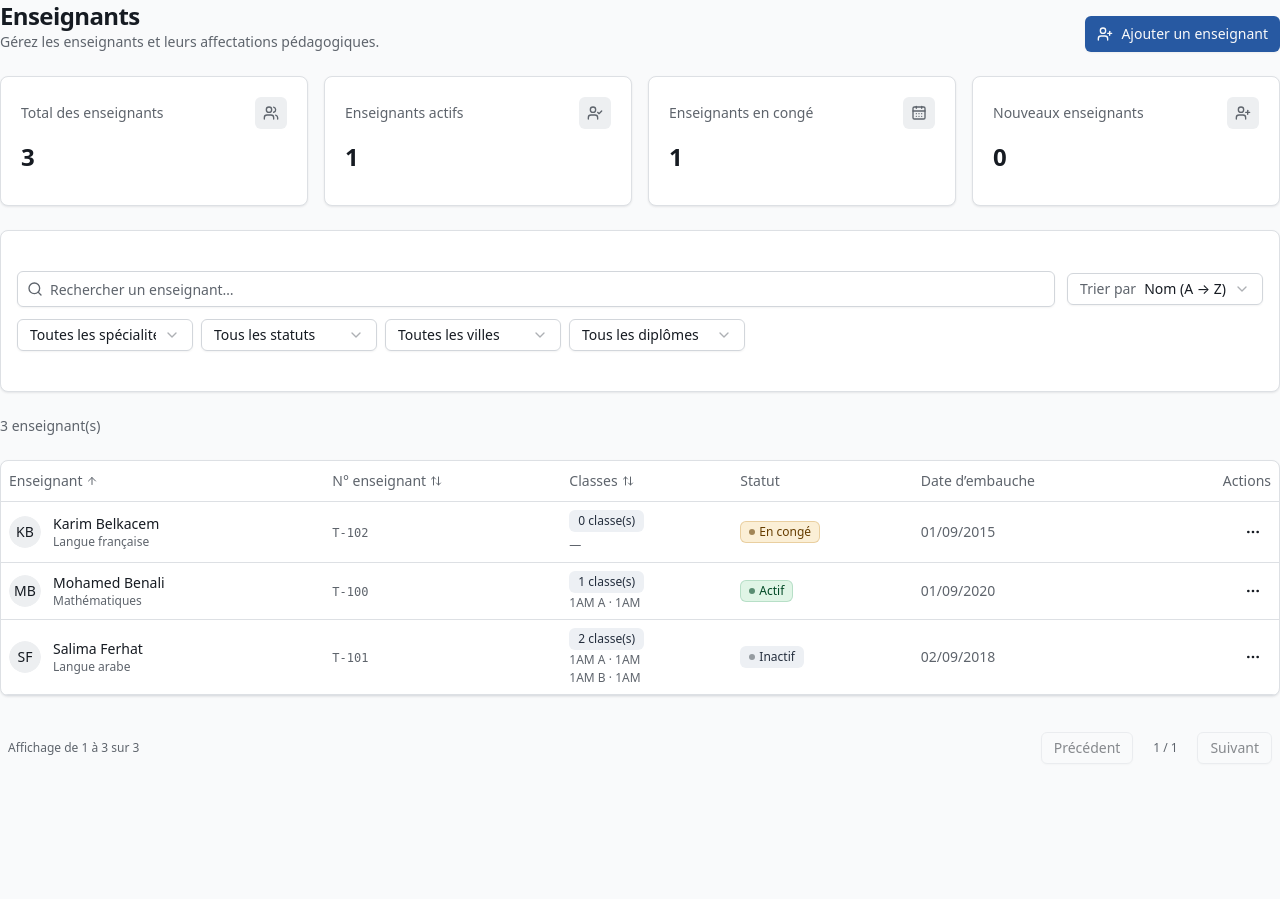
TeachersPage › edits a teacher through the form sheet
Expected: the link "Mohamed Benali" is shown, [53, 572, 165, 592]
Click the button named "Actions" in the row of "Mohamed Benali": point(1253, 590) [1235, 572, 1271, 608]
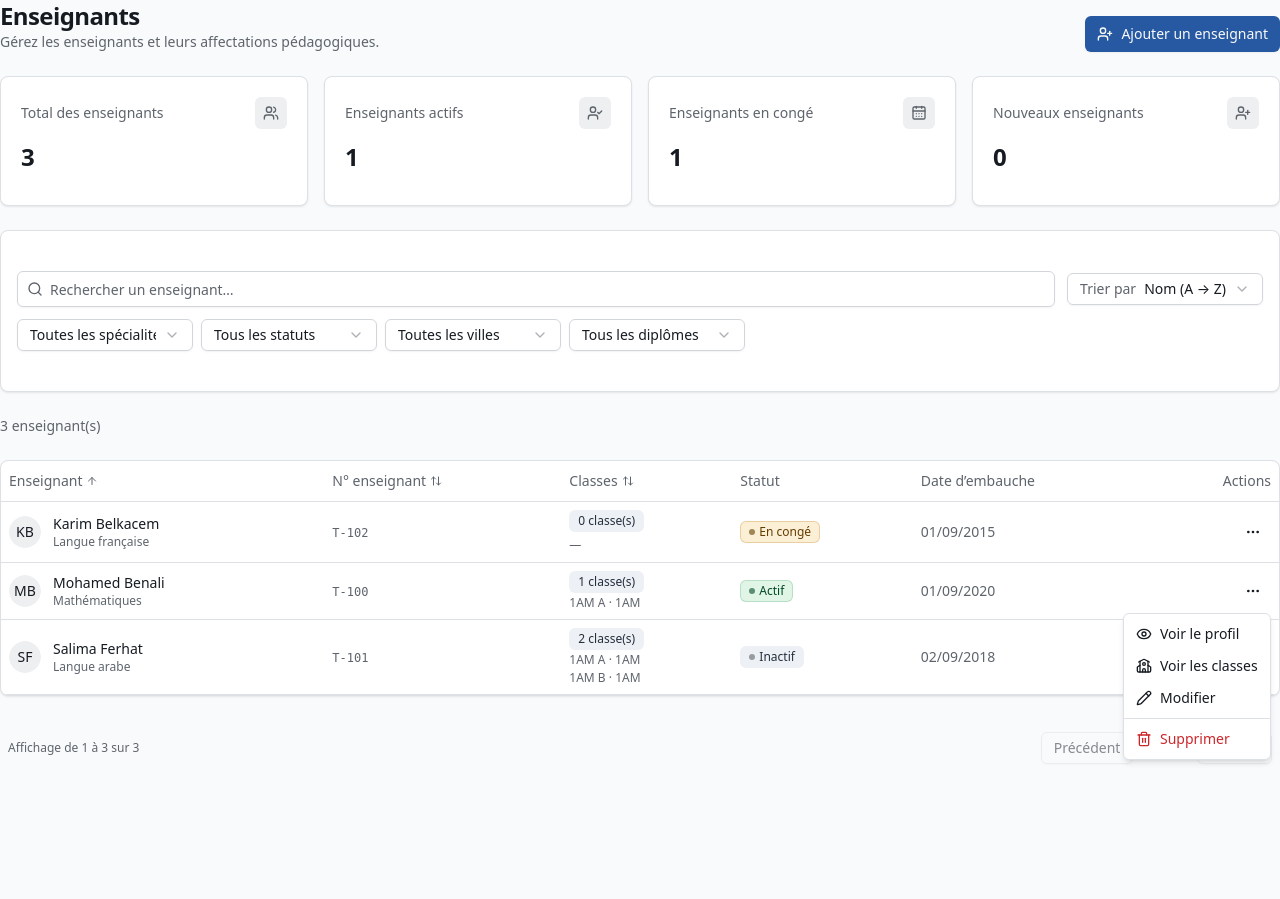
Click the menu item "Modifier": point(1176, 698) [1136, 688, 1216, 707]
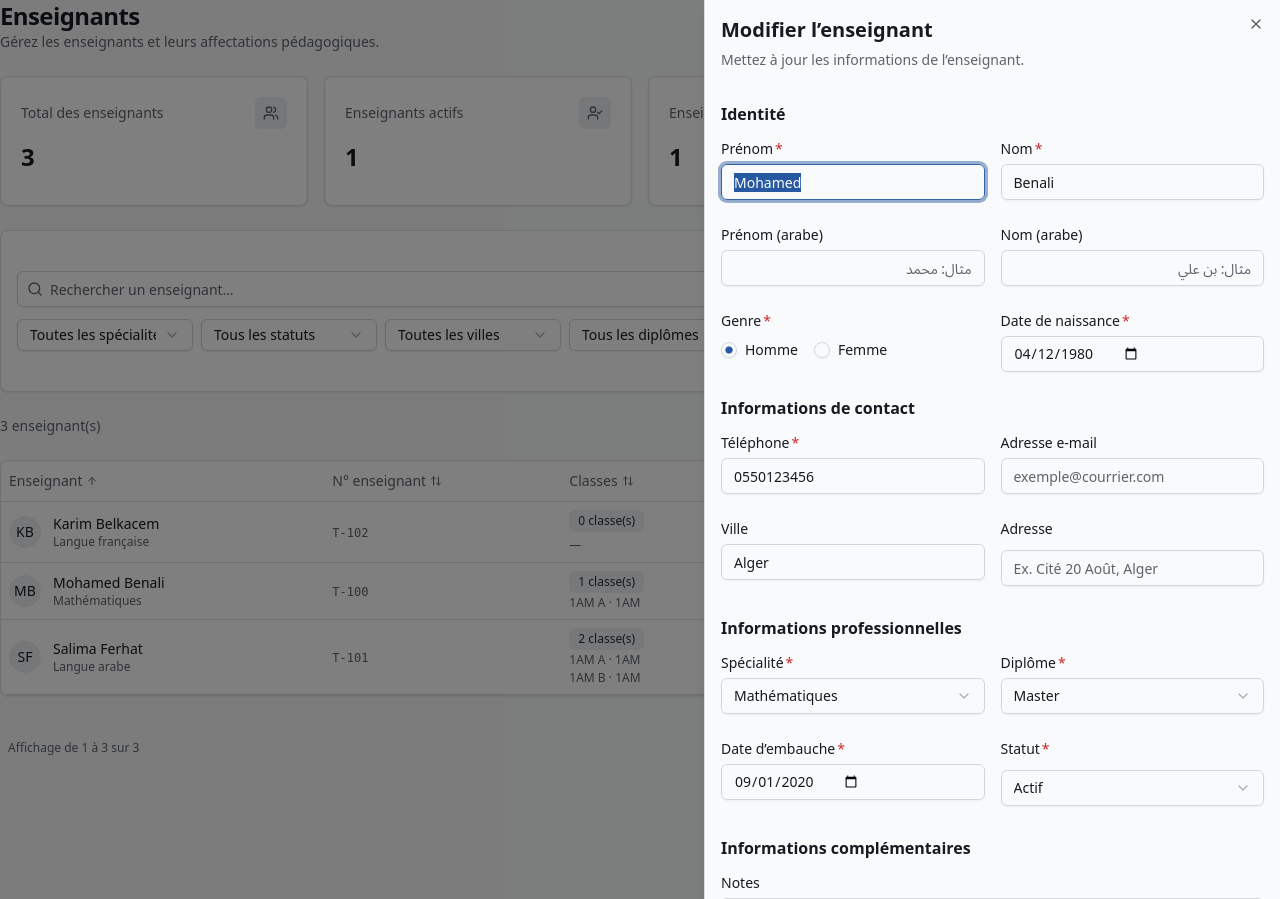
Expected: the heading "Modifier l’enseignant" is shown, [721, 16, 933, 43]
Expected: the field labelled "Prénom*" holds "Mohamed"
Replace the text in the field labelled "Prénom*" with "Karim": point(853, 182) [721, 164, 984, 200]
(page scrolled)
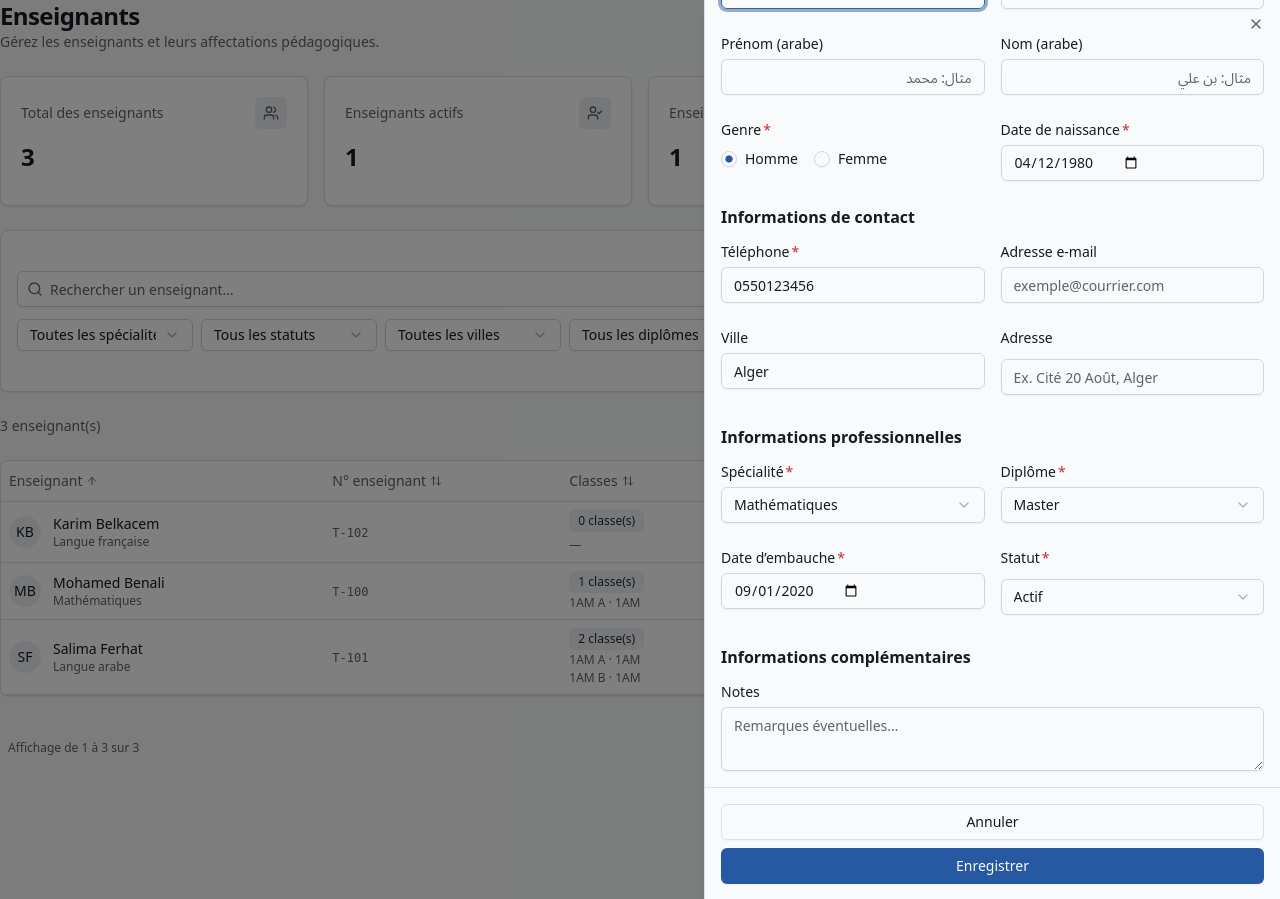
Click the button "Enregistrer": point(992, 866) [721, 848, 1264, 884]
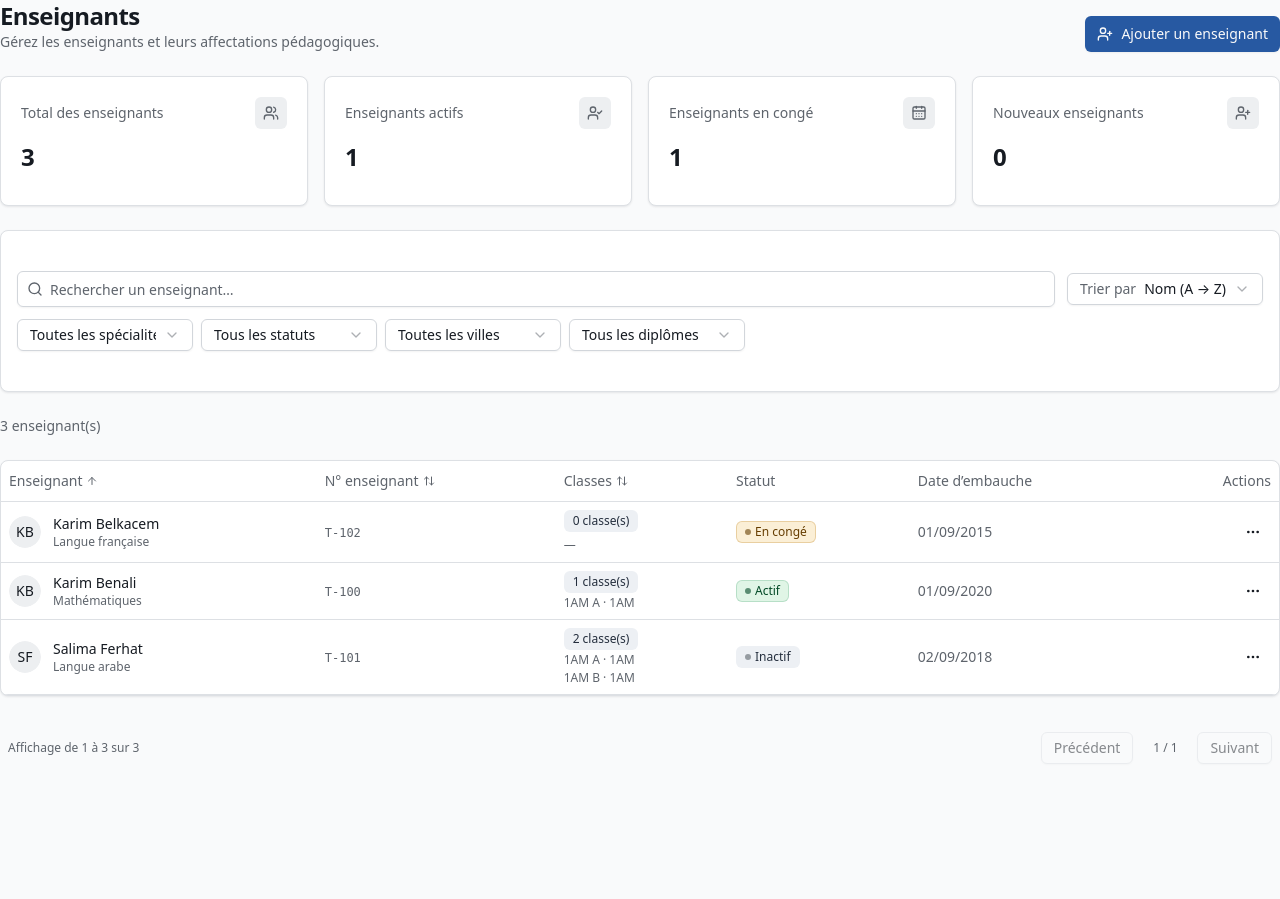
Expected: the link "Karim Benali" is shown, [53, 572, 136, 592]
